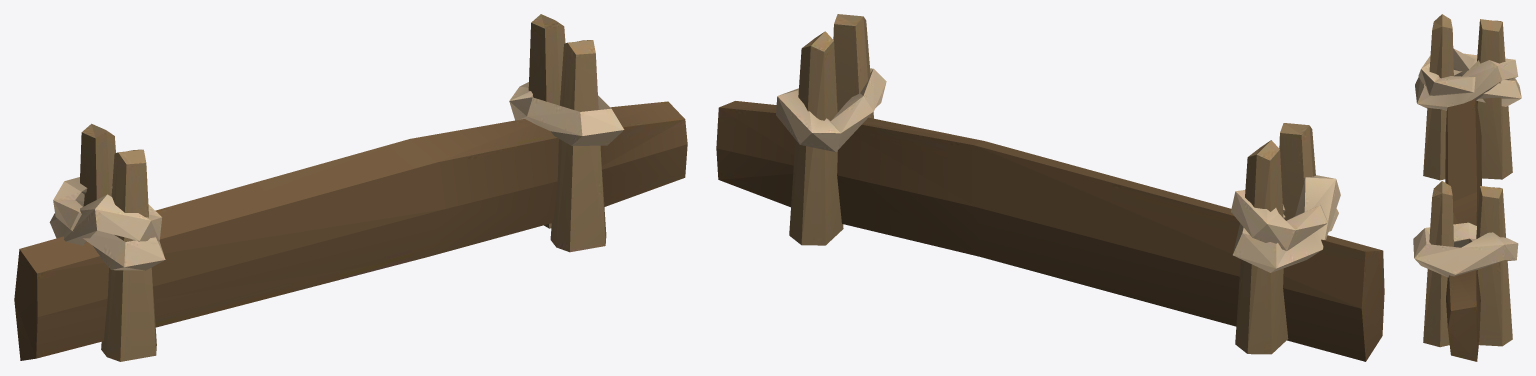
File: fence_veg_a.glb
3 renders of one model, left to right at view 1: azimuth 30°, elevation 25°; view 2: azimuth 150°, elevation 25°; view 3: azimuth 270°, elevation 25°, orthographic. The views are drawn at different scales.
Visible parts, largest first — view 1: fence_veg_a; view 2: fence_veg_a; view 3: fence_veg_a.
Boxes of the visible parts, x1,y1,x2,y2 form: fence_veg_a: (14, 14, 687, 361); fence_veg_a: (716, 14, 1384, 361); fence_veg_a: (1413, 14, 1521, 361).
Size of the model in its own units: 1.5 by 0.45 by 0.2843.
Materials: 1 (1 with a texture image).
